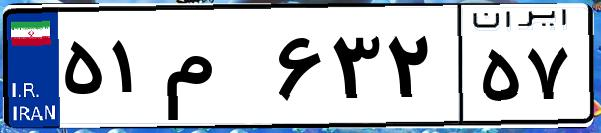1: (110, 28, 158, 98)
2: (385, 28, 445, 110)
3: (330, 28, 385, 110)
5: (57, 26, 110, 100), (475, 38, 525, 113)
6: (270, 28, 330, 110)
7: (525, 38, 570, 115)
م: (158, 20, 270, 120)
